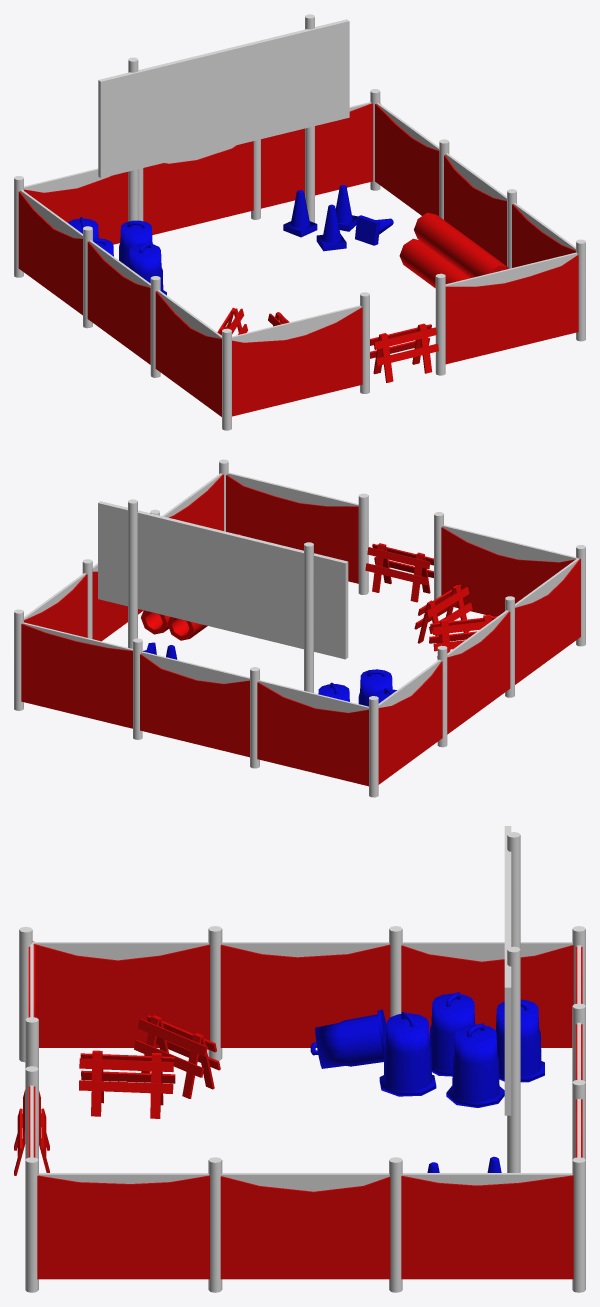
The model's file is EmptyPlot_SM.fbx.
3 renders of one model, top to bottom at view 1: azimuth 30°, elevation 25°; view 2: azimuth 150°, elevation 25°; view 3: azimuth 270°, elevation 25°, orthographic. The views are drawn at different scales.
Visible parts, largest first — view 1: EMptyPlotCOmbined_Cones_UVd_polySurface87; view 2: EMptyPlotCOmbined_Cones_UVd_polySurface87; view 3: EMptyPlotCOmbined_Cones_UVd_polySurface87.
Part boxes in pixels (x1,y1,x2,y2): EMptyPlotCOmbined_Cones_UVd_polySurface87: (14, 14, 585, 430); EMptyPlotCOmbined_Cones_UVd_polySurface87: (14, 459, 585, 797); EMptyPlotCOmbined_Cones_UVd_polySurface87: (14, 826, 585, 1292).
Size of the model in its own units: 82 by 45.65 by 83.64.
